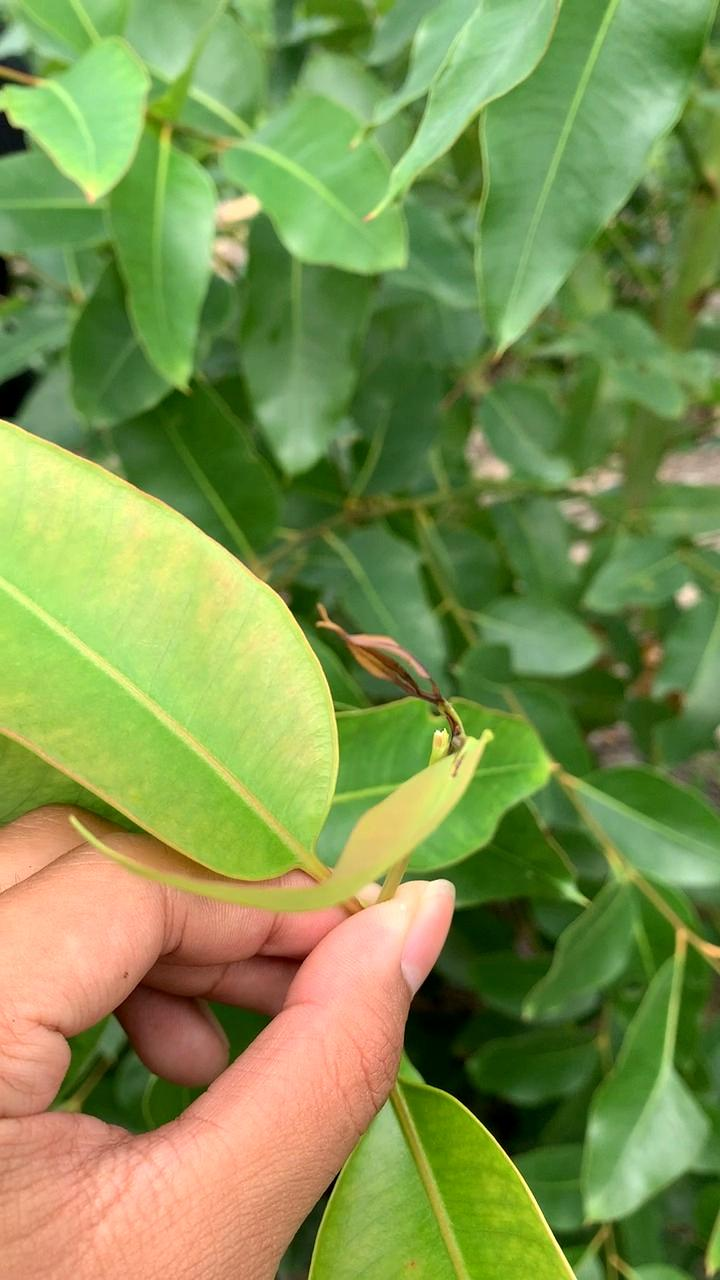Helopeltis-Withered Sprout: (318, 613, 465, 731)
